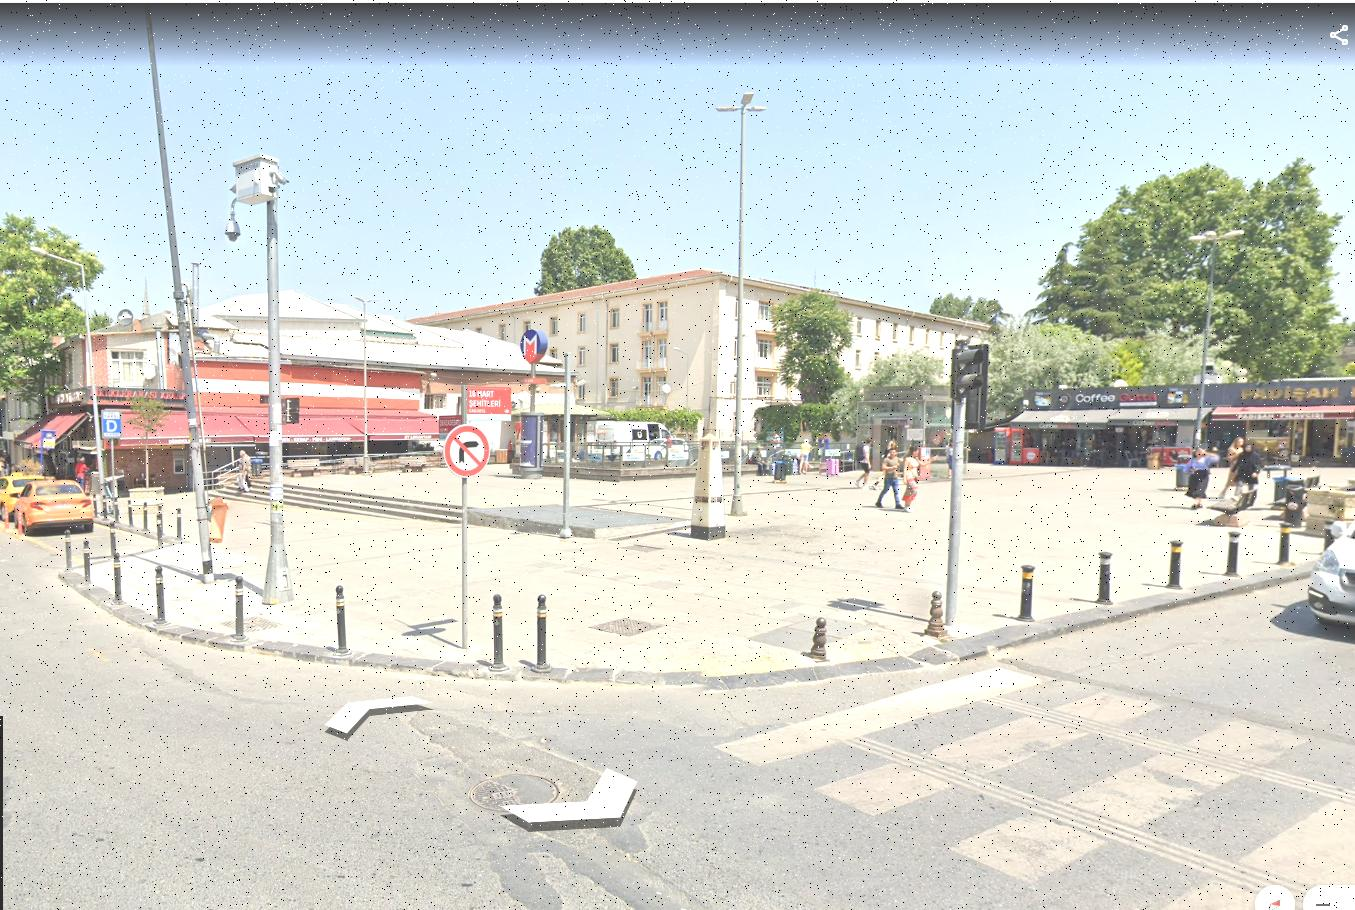rightturnsareforbidden: (445, 425, 489, 478)
station: (103, 418, 119, 433)
